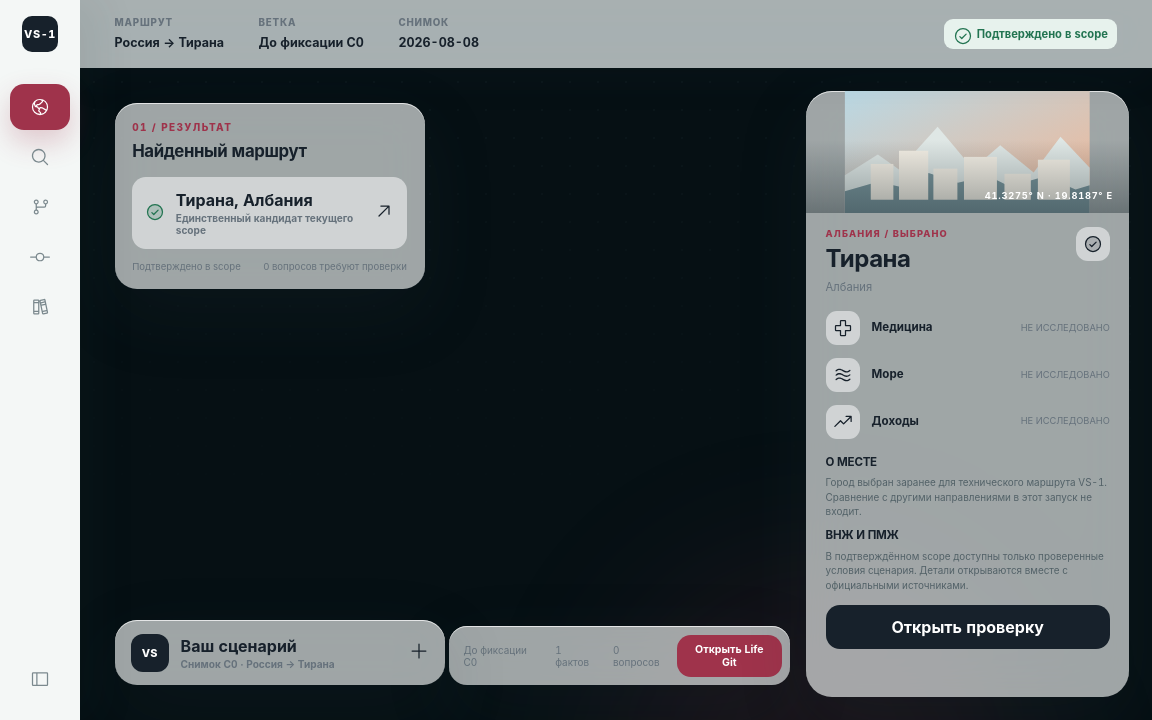
Test: journey action pending states › filters source classes locally and resets them without mutating the journey snapshot
Click the button named "источники".
click(40, 307)  # box [10, 284, 70, 330]
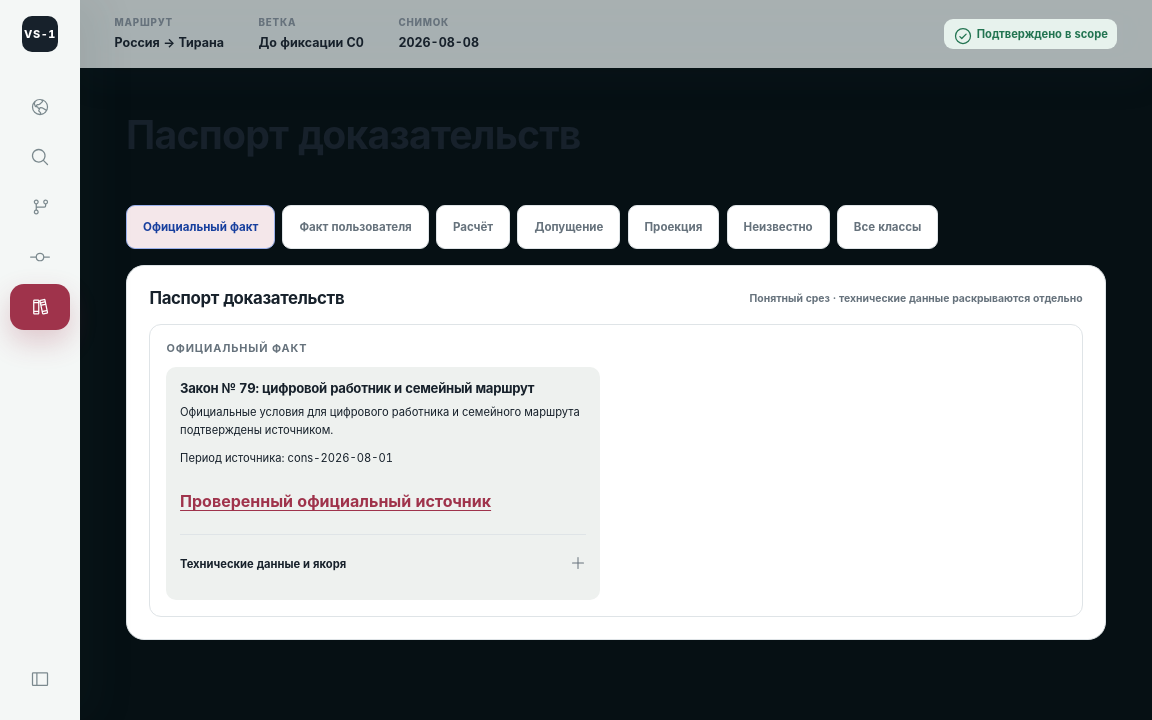
Expected: the heading "Официальный факт" is shown, [166, 341, 307, 355]
Click the button "Допущение".
click(569, 227)  # box [517, 205, 620, 249]
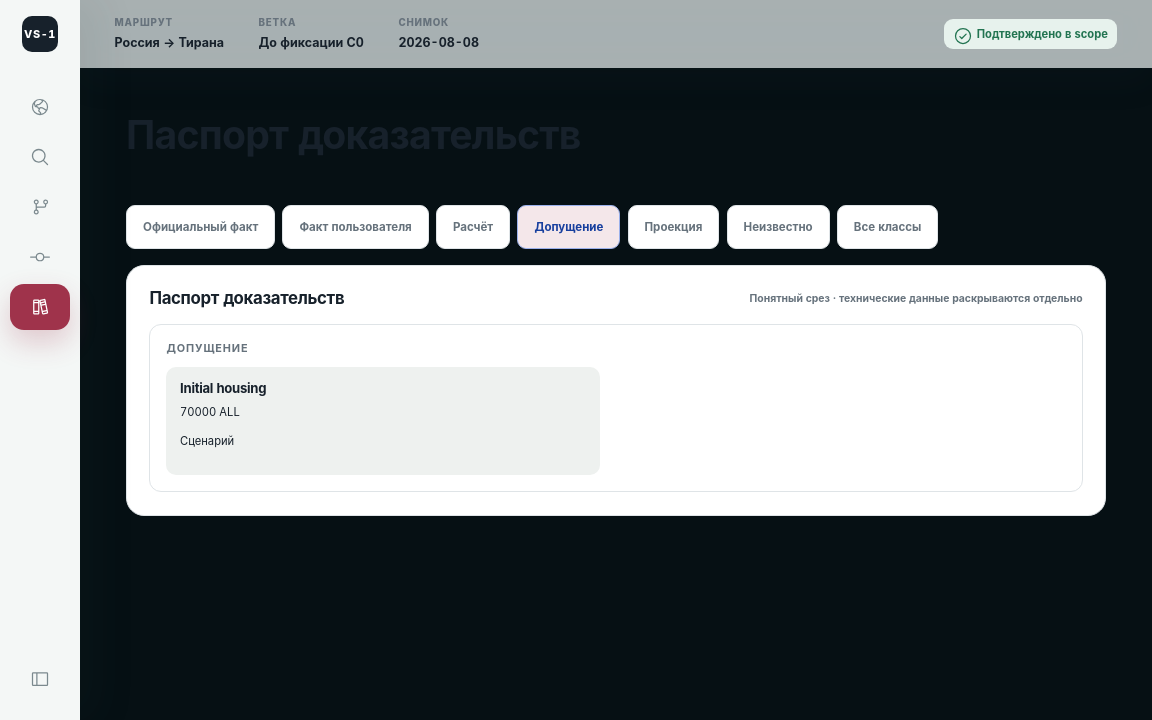
Expected: the heading "Допущение" is shown, [166, 341, 248, 355]
Expected: the heading "Initial housing" is shown, [180, 380, 266, 396]
Click the button "Все классы".
click(888, 227)  # box [837, 205, 938, 249]
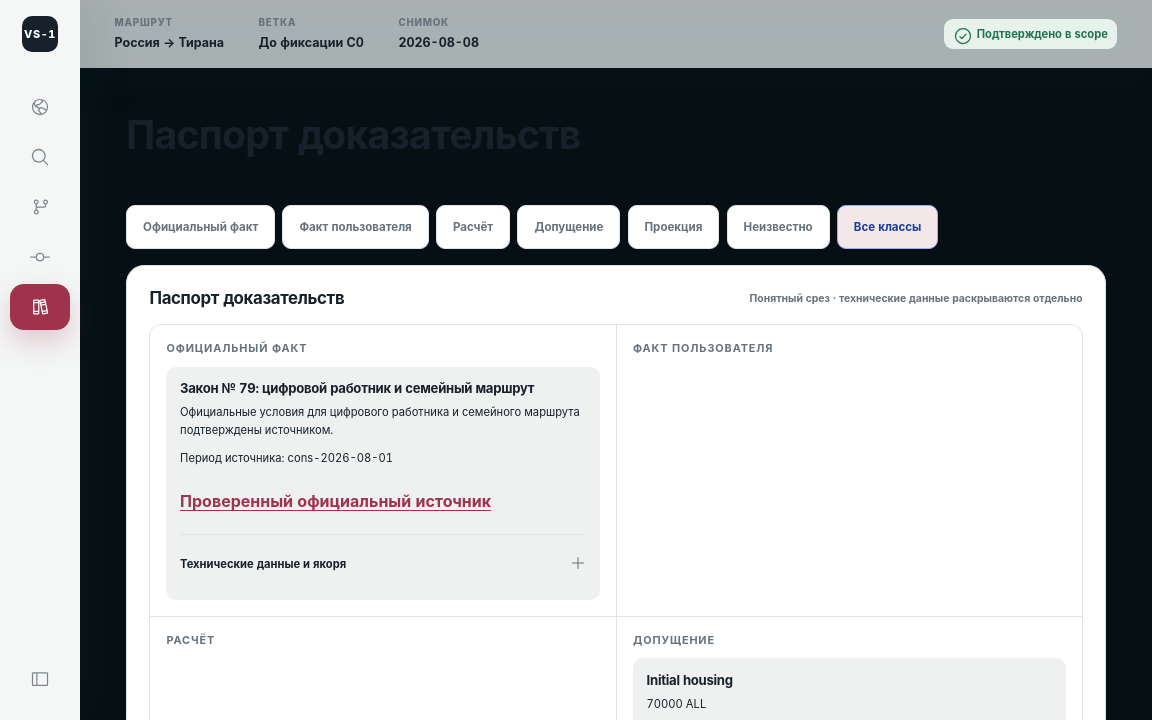
Expected: the heading "Допущение" is shown, [633, 633, 715, 647]
Expected: the heading "Официальный факт" is shown, [166, 341, 307, 355]
